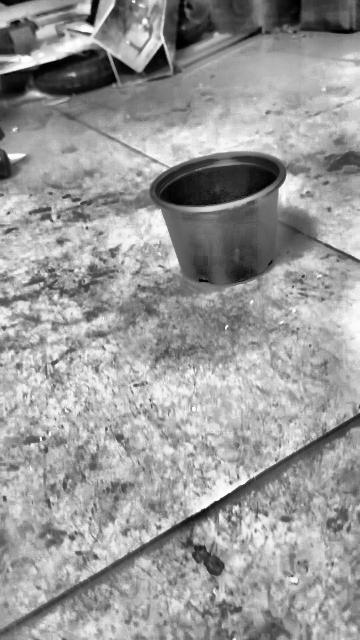pot: (151, 152, 284, 285)
